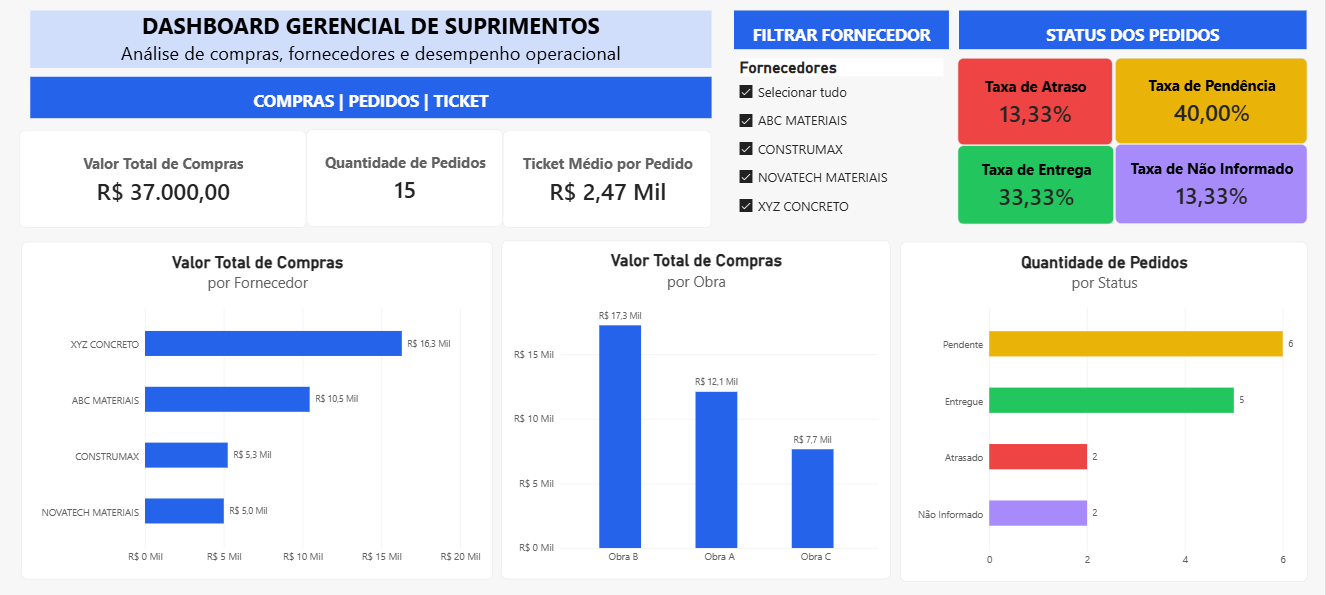

The page's visual inventory and layout, read from the dashboard file:
{"tool":"powerbi","page":{"name":"PROJETO 01","canvas":[1920,1080],"ordinal":0},"visuals":[{"type":"cardVisual","fields":{"Data":["FATO_PEDIDOS.Valor Total de Compras"]},"box":[29.7,278,416.2,141.2],"z":0},{"type":"cardVisual","fields":{"Data":["FATO_PEDIDOS.Quantidade de Pedidos"]},"box":[445.2,276.9,284.1,141.2],"z":1000},{"type":"cardVisual","fields":{"Data":["FATO_PEDIDOS.Ticket Médio por Pedido"]},"box":[729.3,278.7,302.2,141.2],"z":2000},{"type":"slicer","fields":{"Values":["DIM_FORNECEDOR.Fornecedor_Chave"]},"box":[1064.1,173.7,311.3,244.3],"z":3000},{"type":"clusteredBarChart","title":"Valor Total de Compras","fields":{"Category":["DIM_FORNECEDOR.Fornecedor_Chave"],"Y":["FATO_PEDIDOS.Valor Total de Compras"]},"box":[32.6,439.7,682.2,488.6],"z":4000},{"type":"clusteredColumnChart","fields":{"Category":["FATO_PEDIDOS.Obra"],"Y":["FATO_PEDIDOS.Valor Total de Compras"]},"box":[727.5,437.9,562.8,490.4],"z":5000},{"type":"clusteredBarChart","title":"Quantidade de Pedidos","fields":{"Category":["FATO_PEDIDOS.Status_Atualizado"],"Y":["FATO_PEDIDOS.Quantidade de Pedidos"]},"box":[1304.8,439.7,589.9,492.2],"z":6000},{"type":"cardVisual","fields":{"Data":["FATO_PEDIDOS.Taxa de Atraso"]},"box":[1388,173.7,224.4,126.7],"z":7000},{"type":"cardVisual","fields":{"Data":["FATO_PEDIDOS.Taxa de Entrega"]},"box":[1388.4,299.7,226.2,114],"z":8000},{"type":"cardVisual","fields":{"Data":["FATO_PEDIDOS.Taxa de Não Informado"]},"box":[1615.3,299,278.7,115.8],"z":9000},{"type":"cardVisual","fields":{"Data":["FATO_PEDIDOS.Taxa de Pendência"]},"box":[1616,173.7,278.7,124.9],"z":10000},{"type":"textbox","box":[33,776,682,304],"z":11000},{"type":"textbox","box":[45.2,105,986.3,83.2],"z":12000},{"type":"textbox","box":[45.2,200.9,986.3,59.7],"z":13000},{"type":"textbox","box":[1064.1,105,311.3,56.1],"z":14000},{"type":"textbox","box":[1389.8,105,503.1,56.1],"z":15000}]}

Visuals, with their boxes on the page's 1920x1080 design canvas (x1, y1, x2, y2). These are canvas units, not pixel positions in the 1326x595 screenshot, which may show the page scaled, cropped or inside an application window:
cardVisual - FATO_PEDIDOS.Valor Total de Compras: l=30, t=278, r=446, b=419
cardVisual - FATO_PEDIDOS.Quantidade de Pedidos: l=445, t=277, r=729, b=418
cardVisual - FATO_PEDIDOS.Ticket Médio por Pedido: l=729, t=279, r=1032, b=420
slicer - DIM_FORNECEDOR.Fornecedor_Chave: l=1064, t=174, r=1375, b=418
"Valor Total de Compras" clusteredBarChart: l=33, t=440, r=715, b=928
clusteredColumnChart - FATO_PEDIDOS.Obra x FATO_PEDIDOS.Valor Total de Compras: l=728, t=438, r=1290, b=928
"Quantidade de Pedidos" clusteredBarChart: l=1305, t=440, r=1895, b=932
cardVisual - FATO_PEDIDOS.Taxa de Atraso: l=1388, t=174, r=1612, b=300
cardVisual - FATO_PEDIDOS.Taxa de Entrega: l=1388, t=300, r=1615, b=414
cardVisual - FATO_PEDIDOS.Taxa de Não Informado: l=1615, t=299, r=1894, b=415
cardVisual - FATO_PEDIDOS.Taxa de Pendência: l=1616, t=174, r=1895, b=299
textbox: l=33, t=776, r=715, b=1080
textbox: l=45, t=105, r=1032, b=188
textbox: l=45, t=201, r=1032, b=261
textbox: l=1064, t=105, r=1375, b=161
textbox: l=1390, t=105, r=1893, b=161
